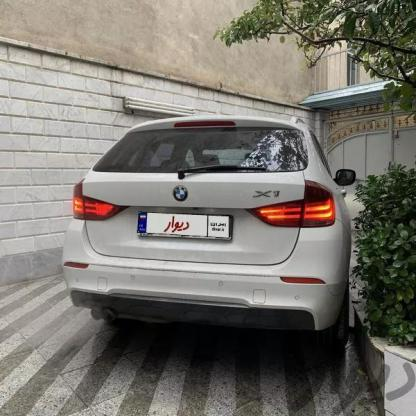Car: (68, 113, 355, 364)
